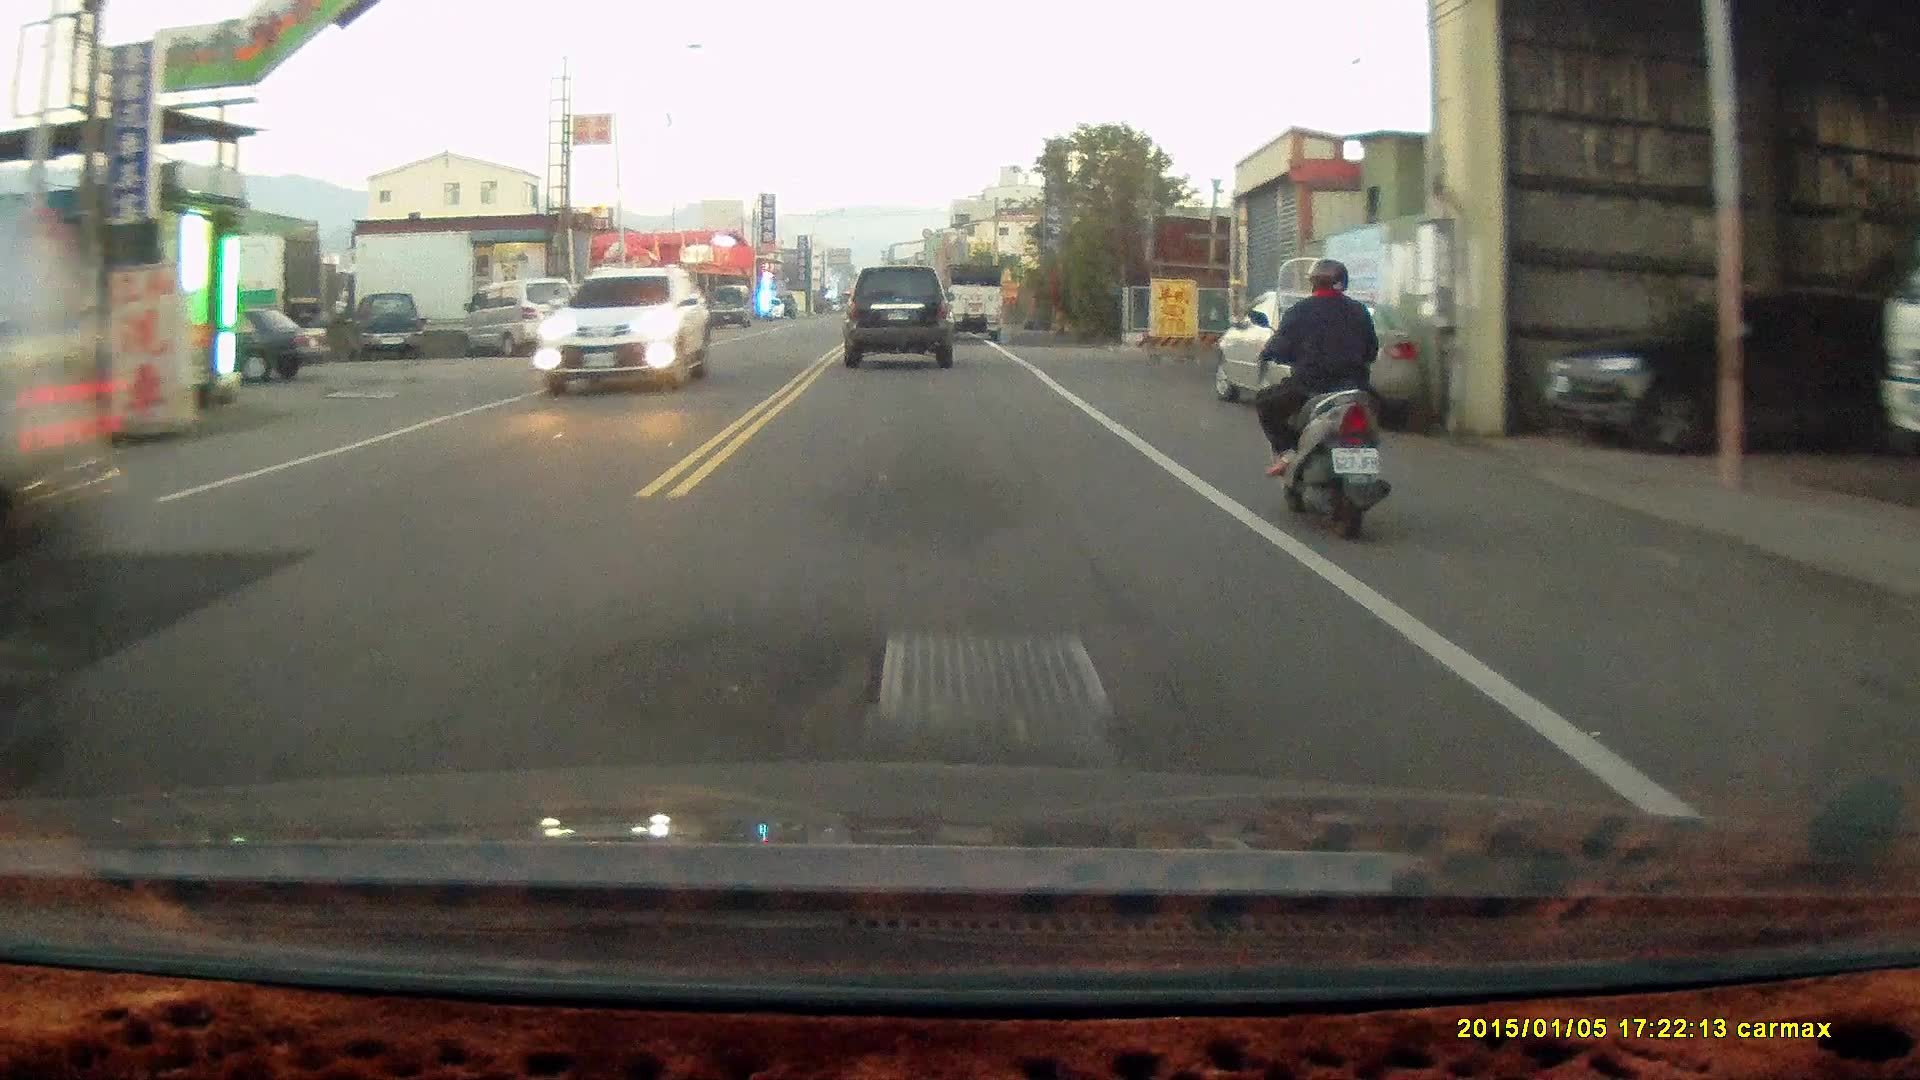rider: (1247, 257, 1392, 543)
vehicle: (1547, 293, 1890, 456), (1213, 289, 1434, 426), (533, 265, 714, 396), (155, 308, 331, 386), (845, 264, 957, 371), (465, 276, 578, 360), (939, 264, 1007, 344), (361, 291, 424, 361)
